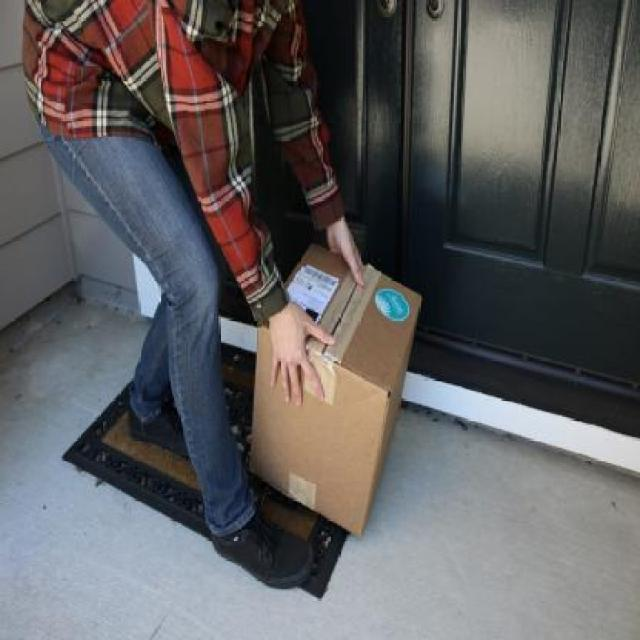box: (257, 248, 419, 536)
